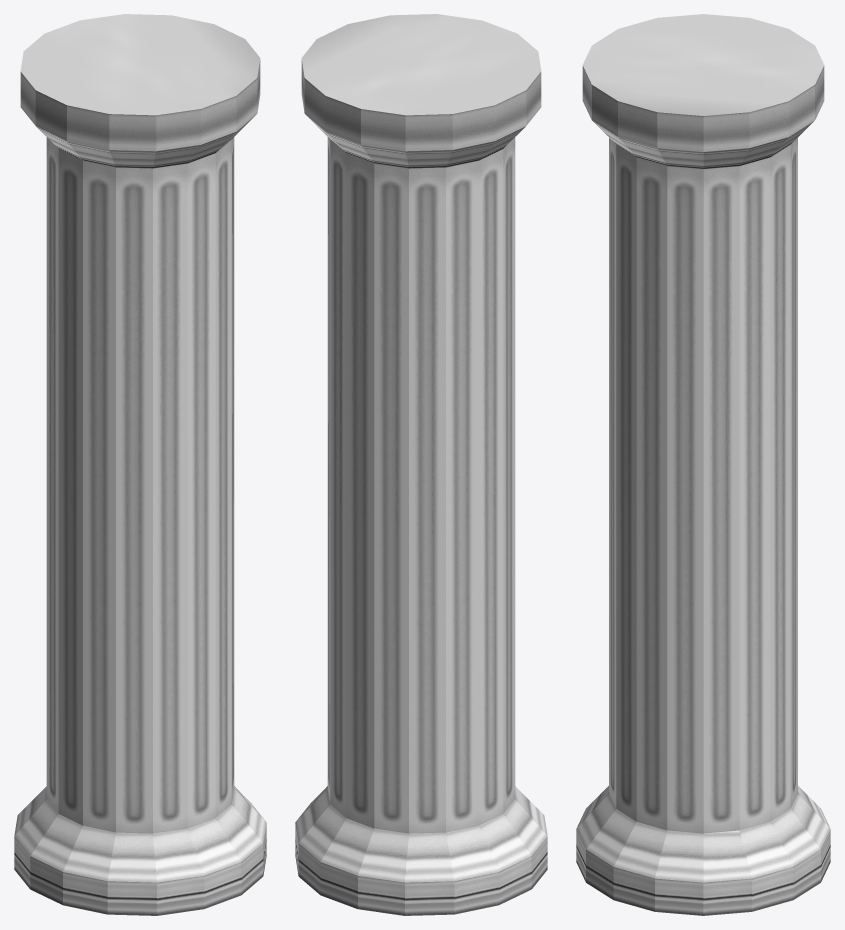
Rendered from Pillar.fbx.
The picture shows the model from 3 angles, left to right: view 1: azimuth 30°, elevation 25°; view 2: azimuth 150°, elevation 25°; view 3: azimuth 270°, elevation 25°; orthographic projection.
Parts seen in each view (by area): view 1: pillar; view 2: pillar; view 3: pillar.
Part boxes in pixels (x1=…): pillar: x1=14, y1=14, x2=266, y2=915; pillar: x1=295, y1=14, x2=547, y2=915; pillar: x1=576, y1=14, x2=830, y2=915.
Size of the model in its own units: 135 by 466 by 135.
